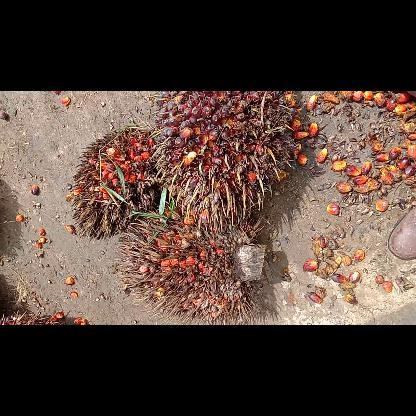TBS masak: (151, 91, 309, 233)
Terlalu masak: (114, 208, 270, 324), (70, 125, 158, 239)
